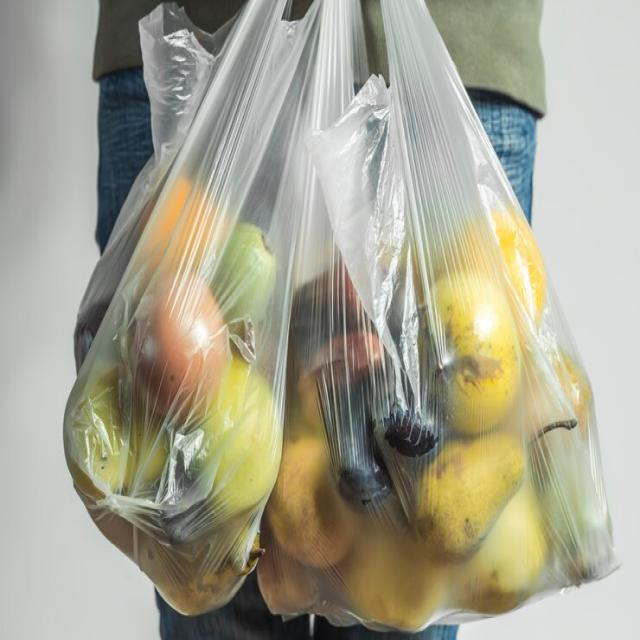plastic_bag: (38, 0, 635, 639)
